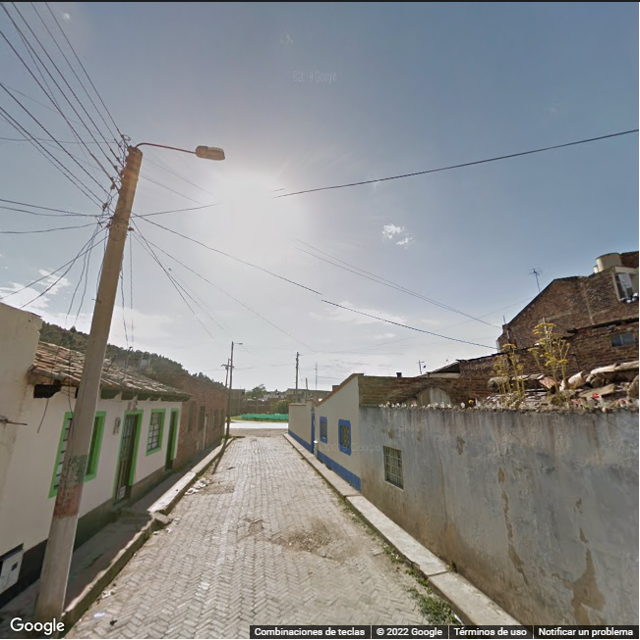D40: (277, 516, 328, 561)
